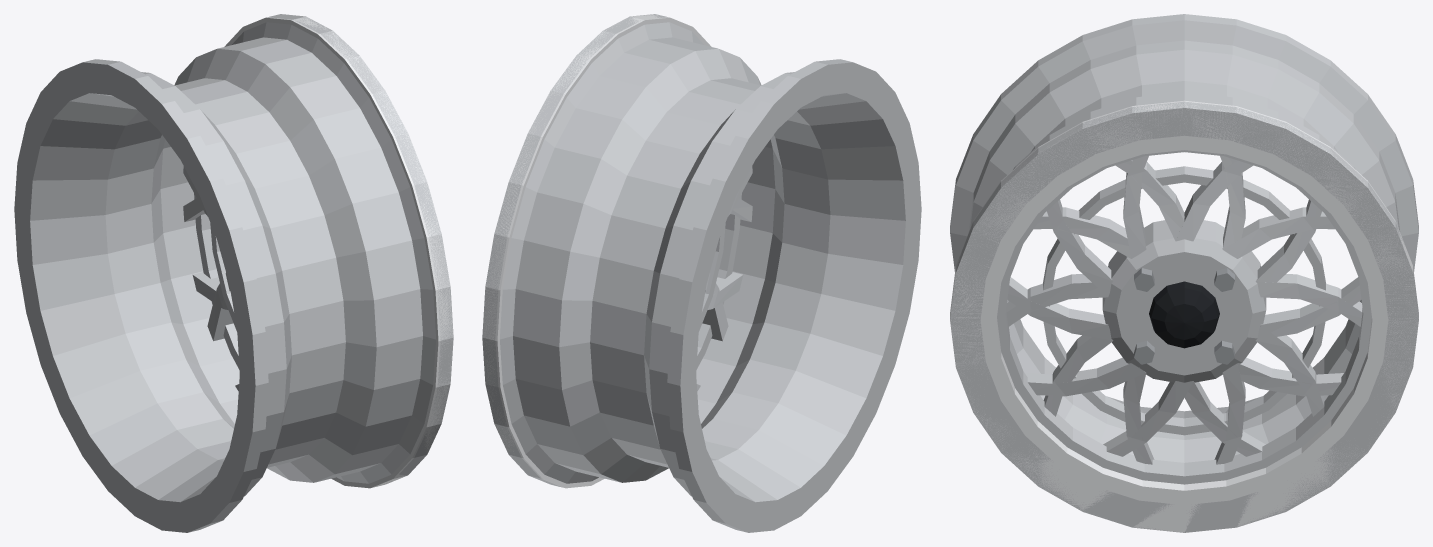
Rendered from rim_crossmesh_15.glb.
3 views of the same model, side by side, from view 1: azimuth 30°, elevation 25°; view 2: azimuth 150°, elevation 25°; view 3: azimuth 270°, elevation 25° (orthographic). The views are drawn at different scales.
Visible parts, largest first — view 1: model; view 2: model; view 3: model.
Part boxes in pixels (box(x1,y1,x2,y2)): model: box(14, 14, 453, 532); model: box(482, 14, 921, 532); model: box(950, 14, 1418, 532).
Size of the model in its own units: 0.2008 by 0.413 by 0.413.
4 materials, 1 textured.
